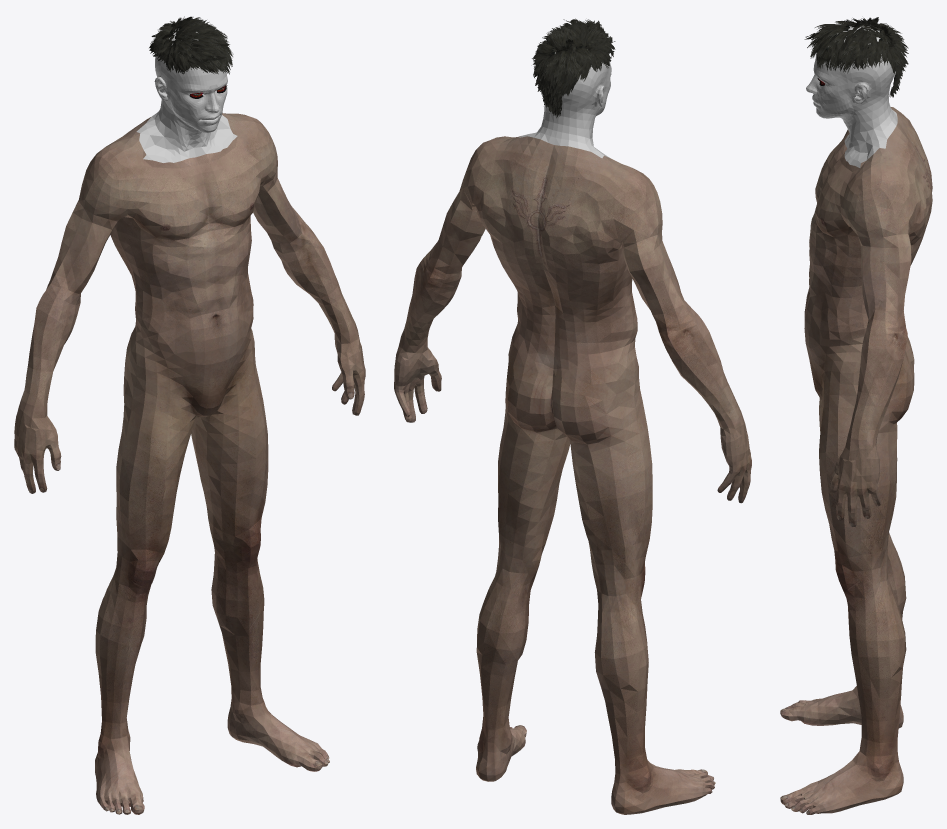
Rendered from dante_naked.obj.
3 renders of one model, left to right at view 1: azimuth 30°, elevation 25°; view 2: azimuth 150°, elevation 25°; view 3: azimuth 270°, elevation 25°, orthographic. The views are drawn at different scales.
Visible parts, largest first — view 1: rdmobj04, rdmobj05, rdmobj06, rdmobj00; view 2: rdmobj05, rdmobj04, rdmobj00, rdmobj06; view 3: rdmobj04, rdmobj05, rdmobj06, rdmobj00.
Part boxes in pixels (x1=…): rdmobj04: x1=14, y1=113, x2=365, y2=493; rdmobj05: x1=95, y1=327, x2=329, y2=814; rdmobj06: x1=136, y1=28, x2=237, y2=162; rdmobj00: x1=149, y1=16, x2=233, y2=74; rdmobj05: x1=476, y1=324, x2=715, y2=814; rdmobj04: x1=394, y1=136, x2=751, y2=503; rdmobj00: x1=532, y1=18, x2=615, y2=117; rdmobj06: x1=519, y1=52, x2=611, y2=158; rdmobj04: x1=804, y1=107, x2=932, y2=526; rdmobj05: x1=780, y1=330, x2=914, y2=814; rdmobj06: x1=806, y1=25, x2=897, y2=167; rdmobj00: x1=804, y1=17, x2=908, y2=97.
Size of the model in its own units: 2.82 by 5.89 by 1.09.
